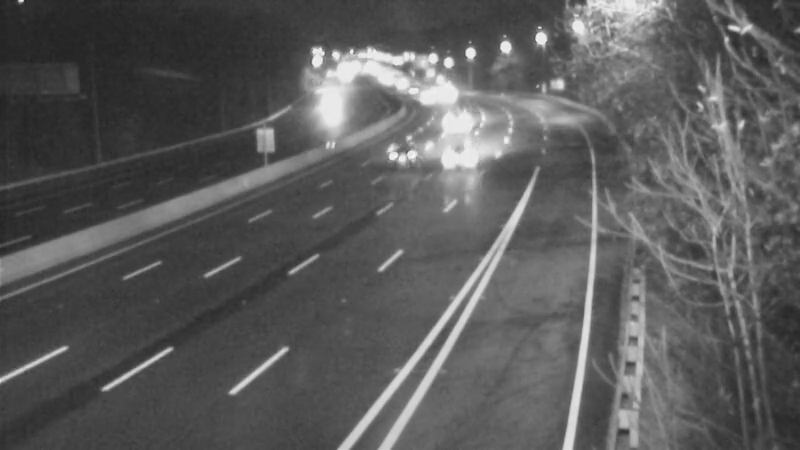vehicle: (420, 116, 500, 196), (413, 99, 463, 149), (387, 119, 437, 169)
